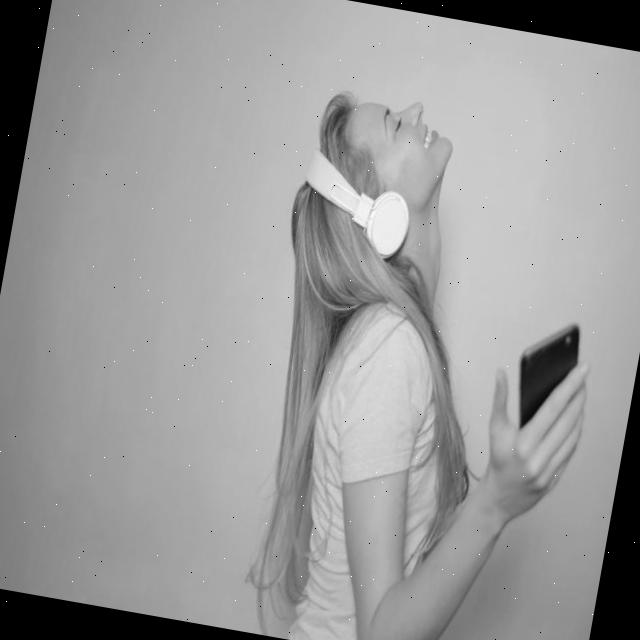Happiness: (333, 88, 461, 202)
